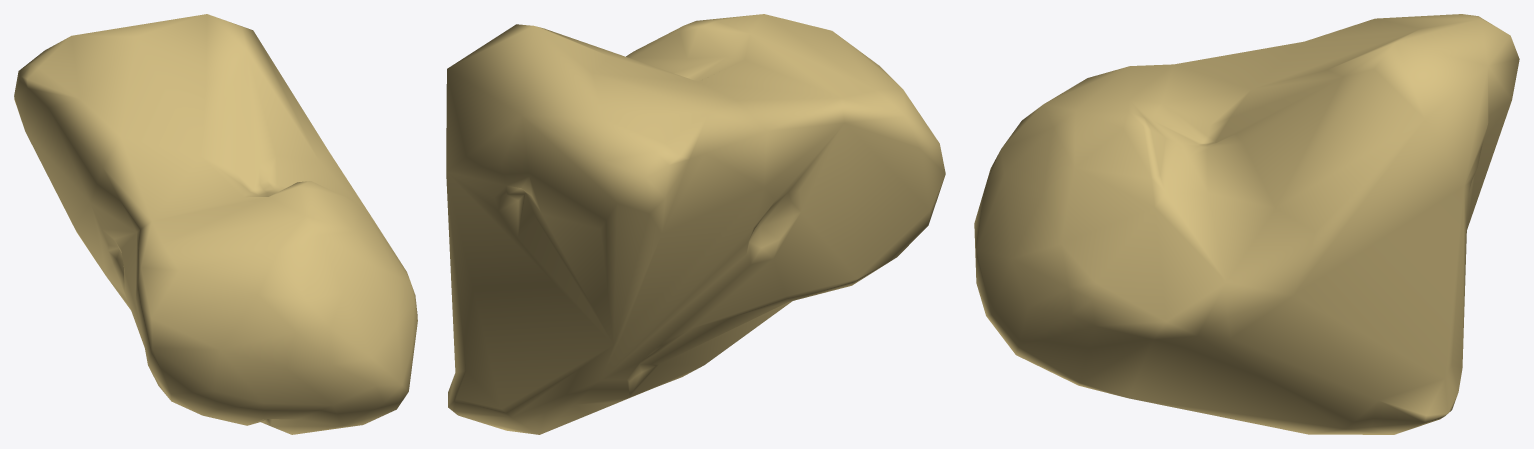
3 views of the same model, side by side, from view 1: azimuth 30°, elevation 25°; view 2: azimuth 150°, elevation 25°; view 3: azimuth 270°, elevation 25° (orthographic). The views are drawn at different scales.
Parts seen in each view (by area): view 1: 左侧头状骨; view 2: 左侧头状骨; view 3: 左侧头状骨.
Boxes of the visible parts, x1=… form: 左侧头状骨: x1=14, y1=14, x2=417, y2=434; 左侧头状骨: x1=446, y1=14, x2=945, y2=434; 左侧头状骨: x1=974, y1=14, x2=1519, y2=434.
Size of the model in its own units: 0.0245 by 0.0265 by 0.0345.
